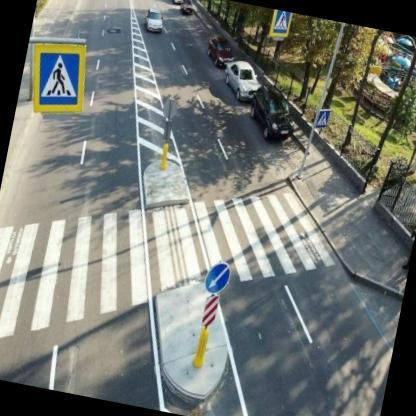obstructed_road_sign: (270, 10, 292, 40)
road_sign: (30, 37, 86, 111), (206, 262, 230, 294), (315, 109, 331, 128)
